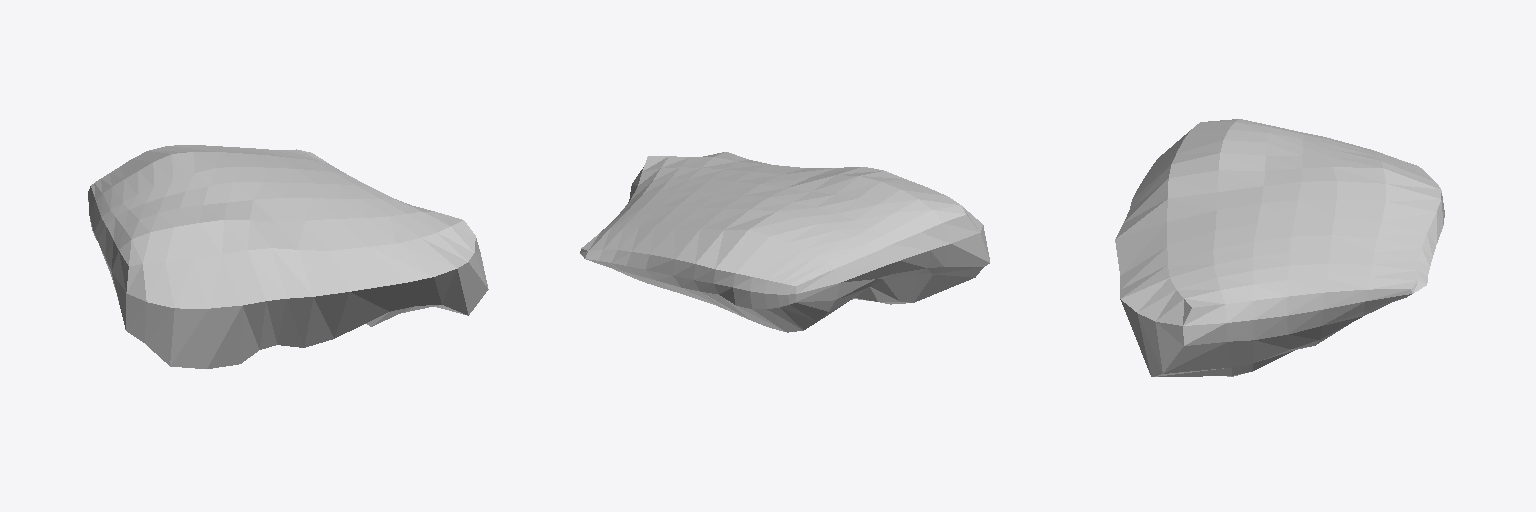
Rendered from env_level1_Canyon_Rock19.obj.
The picture shows the model from 3 angles: view 1: azimuth 30°, elevation 25°; view 2: azimuth 150°, elevation 25°; view 3: azimuth 270°, elevation 25°; orthographic projection.
Parts seen in each view (by area): view 1: rockplatform_c; view 2: rockplatform_c; view 3: rockplatform_c.
Part boxes in pixels (x1,y1,x2,y2): rockplatform_c: (88,145,488,368); rockplatform_c: (580,152,989,332); rockplatform_c: (1115,119,1444,376).
Size of the model in its own units: 697 by 281 by 565.